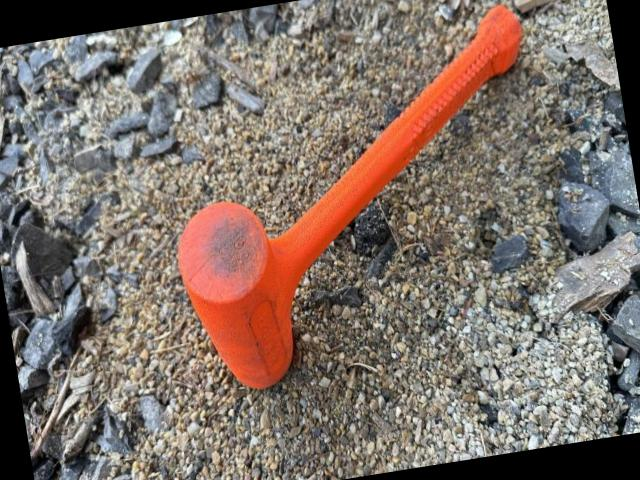hammer: (143, 0, 572, 400)
